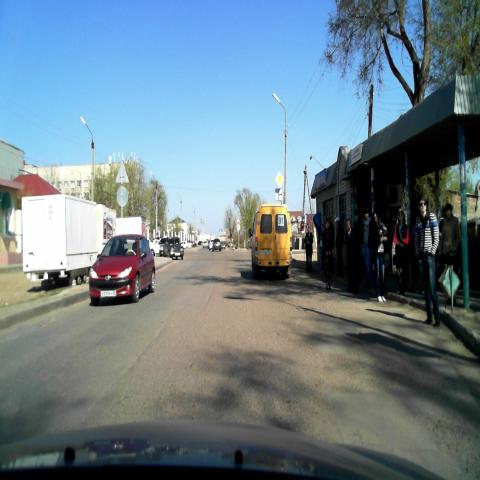8_13: (276, 187, 284, 201)
